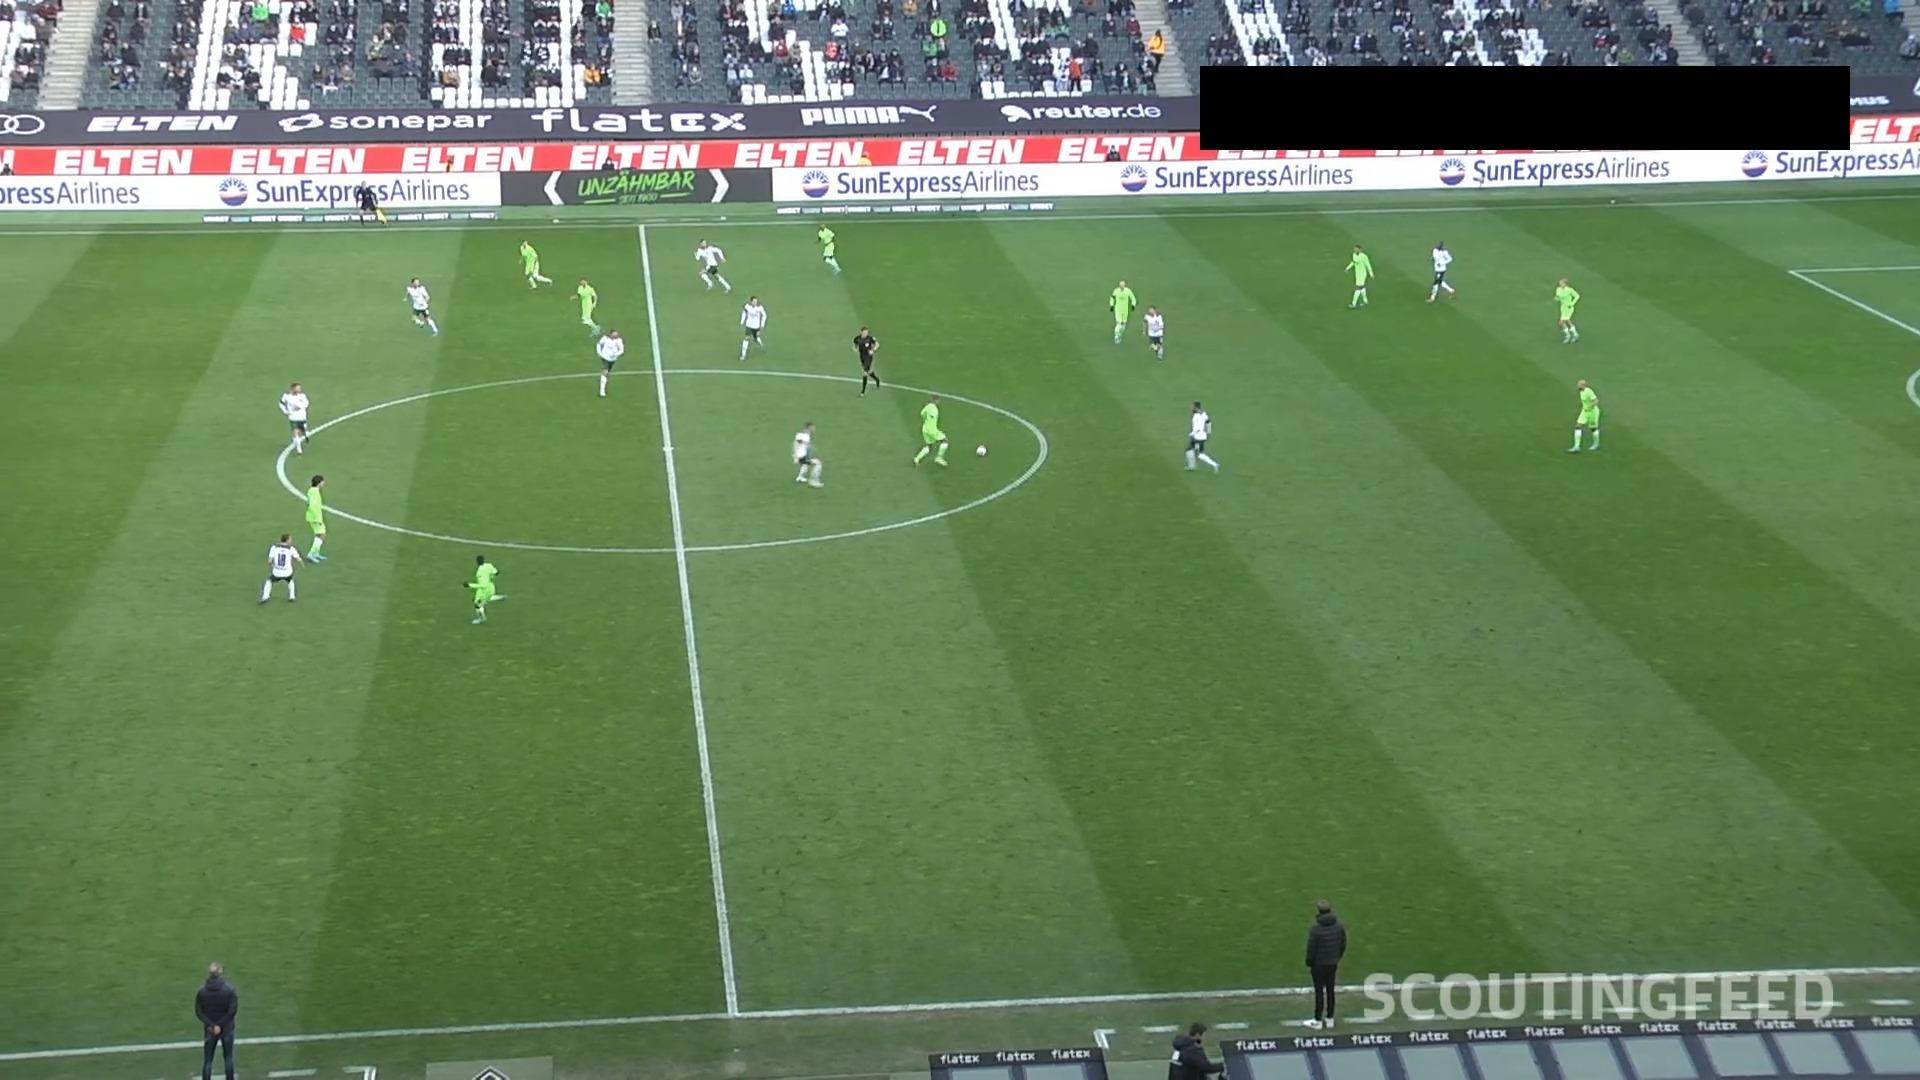ball: (975, 445, 986, 457)
coach: (1303, 897, 1346, 1029), (193, 960, 238, 1078)
player: (257, 533, 302, 603), (462, 553, 501, 624), (911, 396, 949, 467), (1183, 400, 1219, 473), (1567, 377, 1601, 452), (277, 381, 310, 456), (303, 474, 328, 563), (790, 420, 823, 487), (693, 237, 731, 292), (594, 328, 624, 397), (404, 276, 438, 336), (1343, 243, 1374, 307), (568, 276, 600, 336), (1107, 278, 1136, 344), (738, 294, 766, 360), (1553, 276, 1580, 344), (1426, 240, 1455, 303), (517, 239, 552, 289), (816, 222, 841, 275), (1142, 305, 1165, 359)
referee: (1167, 1021, 1226, 1078), (851, 326, 881, 396), (352, 183, 386, 226)
